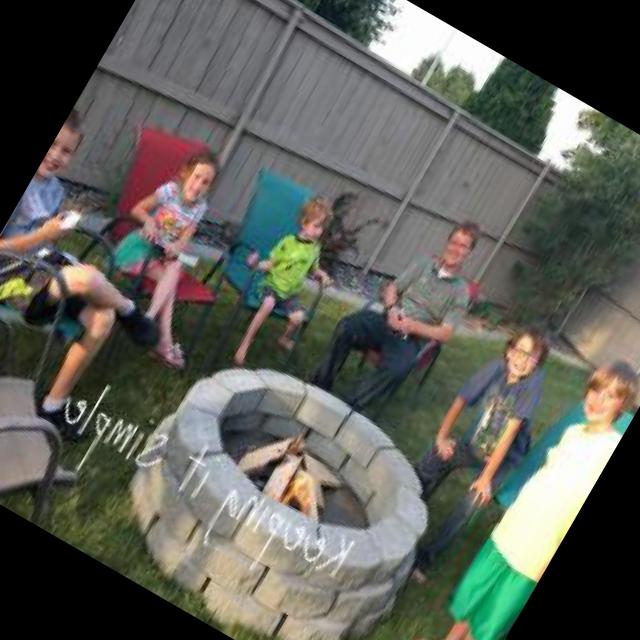fire: (274, 445, 348, 525)
